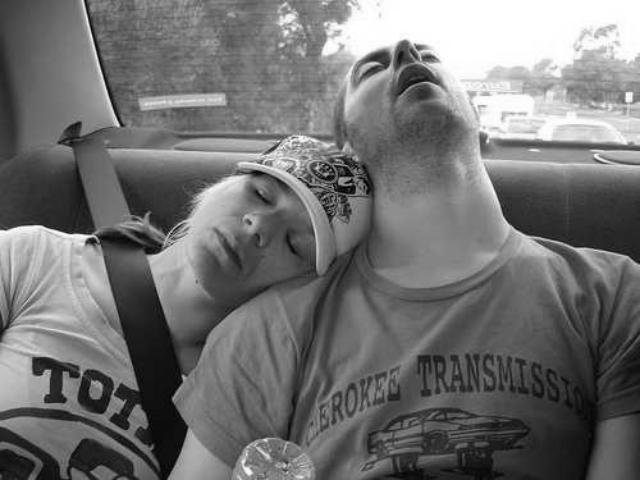Seatbelt: (68, 140, 190, 480)
